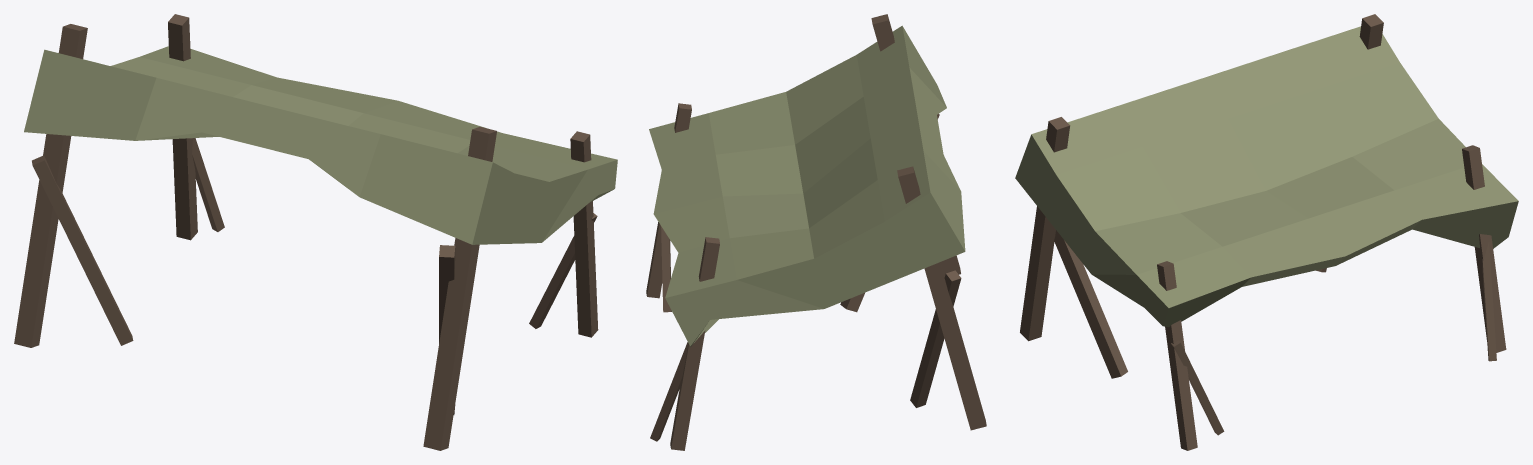
The model's file is tent_beige.glb.
3 views of the same model, side by side, from view 1: azimuth 30°, elevation 25°; view 2: azimuth 150°, elevation 25°; view 3: azimuth 270°, elevation 25° (orthographic). The views are drawn at different scales.
Visible parts, largest first — view 1: Tent Yellow.196; view 2: Tent Yellow.196; view 3: Tent Yellow.196.
Part boxes in pixels (x1,y1,x2,y2): Tent Yellow.196: (14, 14, 617, 450); Tent Yellow.196: (646, 14, 986, 450); Tent Yellow.196: (1015, 14, 1518, 450).
Bounding box in the file's own units: 0.1835 × 0.1161 × 0.1953.
